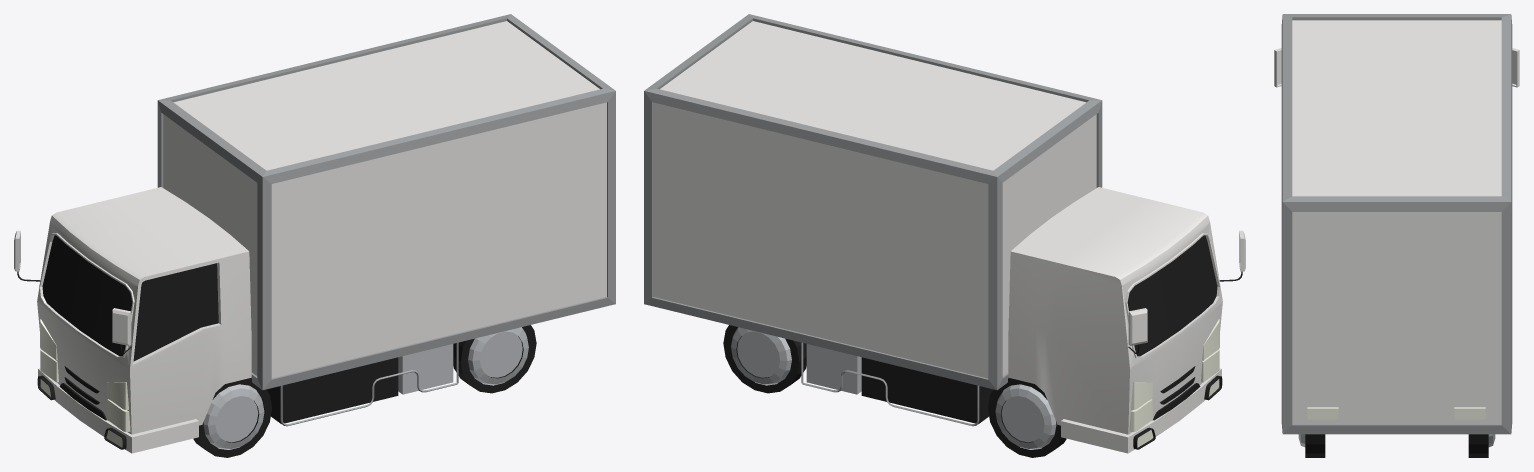
File: SM_truck_car_01.fbx
3 views of the same model, side by side, from view 1: azimuth 30°, elevation 25°; view 2: azimuth 150°, elevation 25°; view 3: azimuth 270°, elevation 25° (orthographic). The views are drawn at different scales.
Parts seen in each view (by area): view 1: Cylinder039; view 2: Cylinder039; view 3: Cylinder039.
Part boxes in pixels (left/top/right/bottom): Cylinder039: left=14, top=14, right=615, bottom=457; Cylinder039: left=644, top=14, right=1245, bottom=457; Cylinder039: left=1274, top=14, right=1519, bottom=457.
Size of the model in its own units: 337 by 131 by 182.
